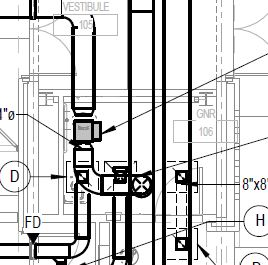VAV: (66, 108, 107, 154)
